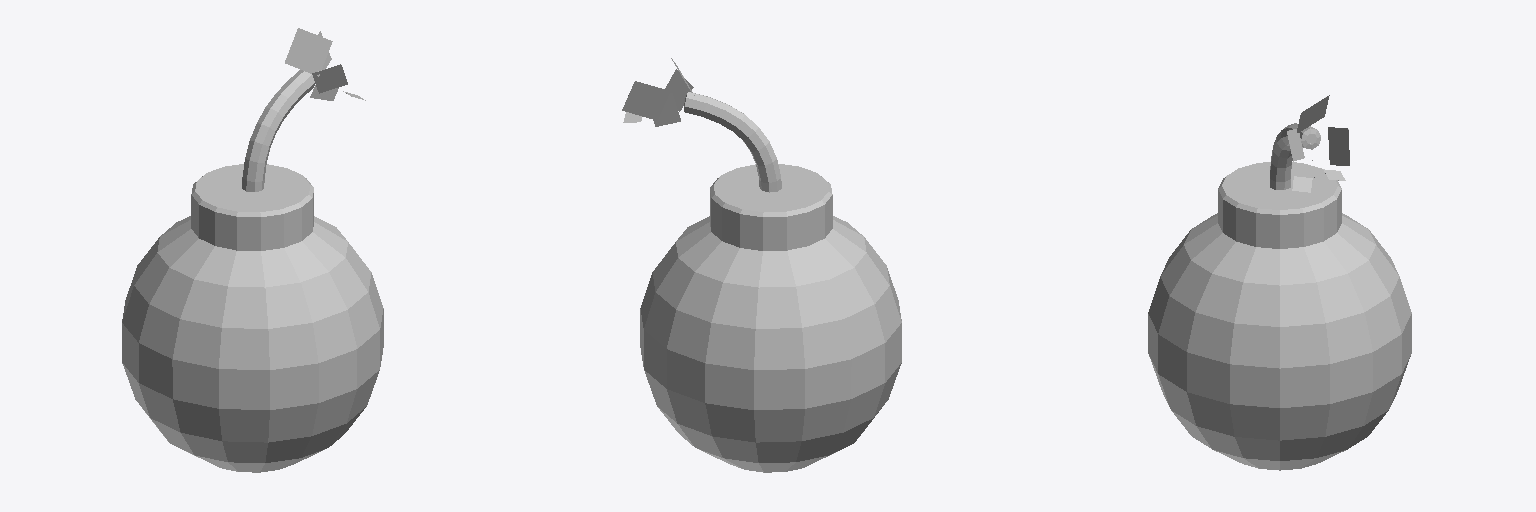
File: bomb_000002.obj
The picture shows the model from 3 angles: view 1: azimuth 30°, elevation 25°; view 2: azimuth 150°, elevation 25°; view 3: azimuth 270°, elevation 25°; orthographic projection.
Parts seen in each view (by area): view 1: Sphere, NurbsPath, Plane_5.001_Mesh.001; view 2: Sphere, NurbsPath, Plane_5.001_Mesh.001; view 3: Sphere, Plane_5.001_Mesh.001, NurbsPath.
Boxes of the visible parts, box(x1,y1,x2,y2) form: Sphere: box(122, 164, 383, 472); NurbsPath: box(242, 70, 315, 191); Plane_5.001_Mesh.001: box(285, 28, 365, 100); Sphere: box(640, 164, 901, 472); NurbsPath: box(684, 92, 781, 192); Plane_5.001_Mesh.001: box(622, 58, 694, 126); Sphere: box(1148, 162, 1411, 470); Plane_5.001_Mesh.001: box(1287, 95, 1349, 192); NurbsPath: box(1270, 123, 1320, 189).
Bounding box in the file's own units: 0.7989 × 1.26 × 0.7772.